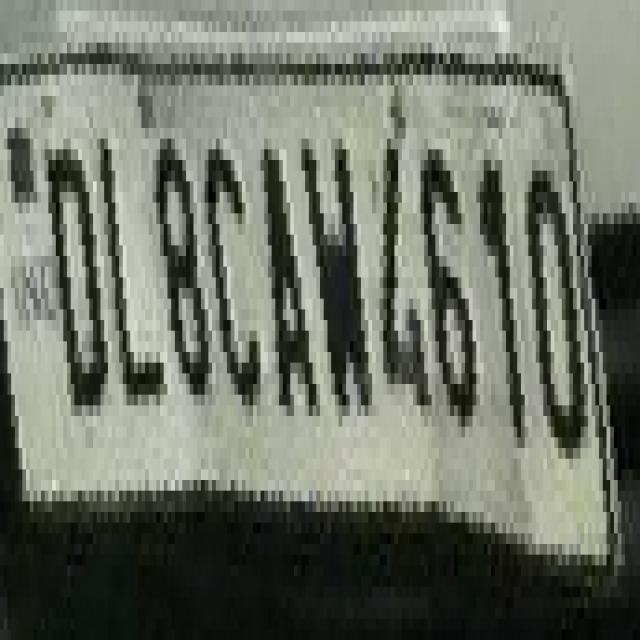license_plate: (0, 21, 618, 480)
